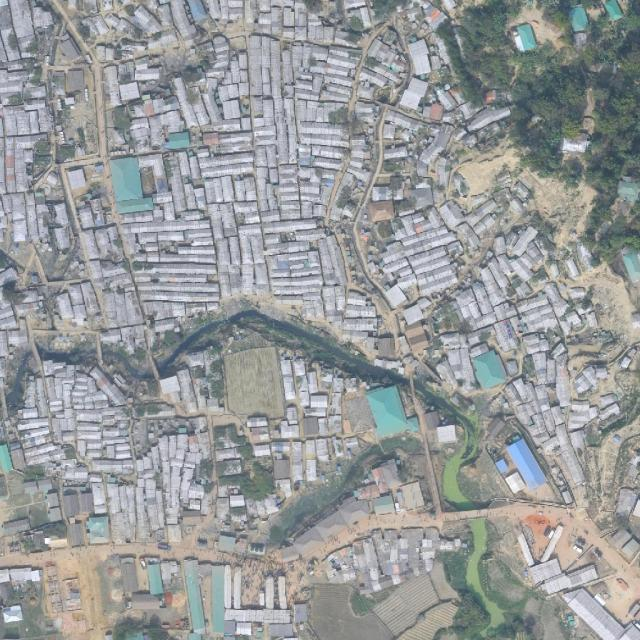greenland: (434, 452, 475, 515)
